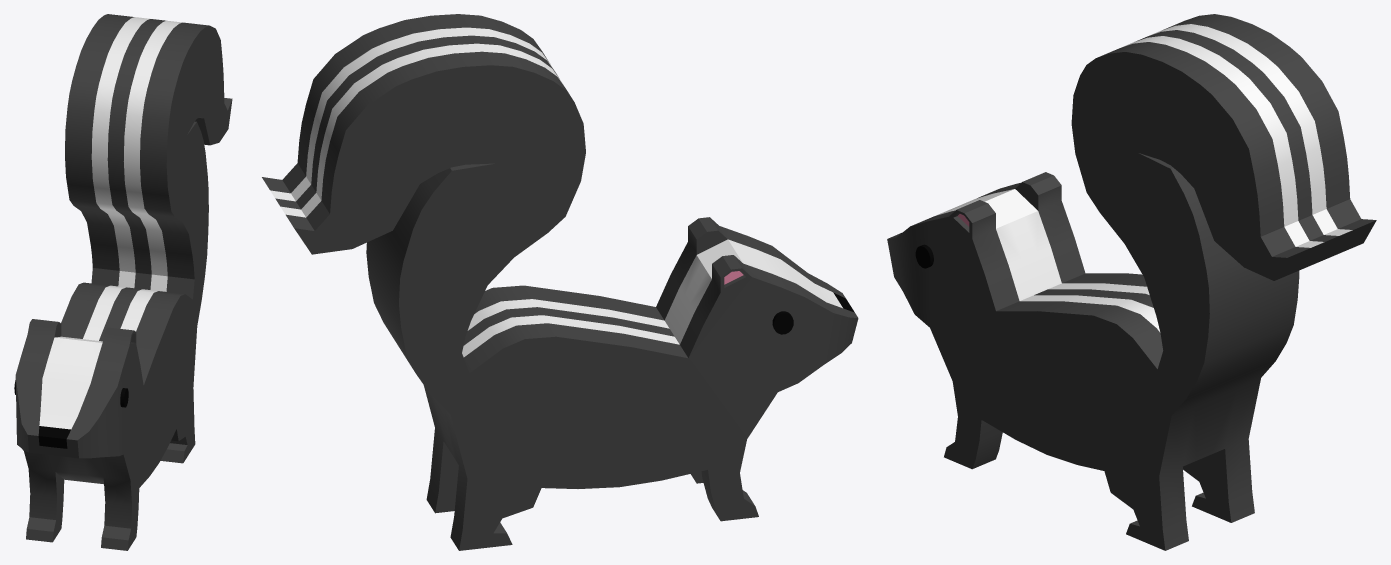
Rendered from skunk.glb.
The picture shows the model from 3 angles, left to right: view 1: azimuth 30°, elevation 25°; view 2: azimuth 150°, elevation 25°; view 3: azimuth 270°, elevation 25°; orthographic projection. The views are drawn at different scales.
Parts seen in each view (by area): view 1: Plane.146; view 2: Plane.146; view 3: Plane.146.
Boxes of the visible parts, x1,y1,x2,y2 form: Plane.146: (15,14,232,550); Plane.146: (262,14,858,550); Plane.146: (887,14,1376,550).
Size of the model in its own units: 2.02 by 2.22 by 2.02.
Materials: 1 (1 with a texture image).
